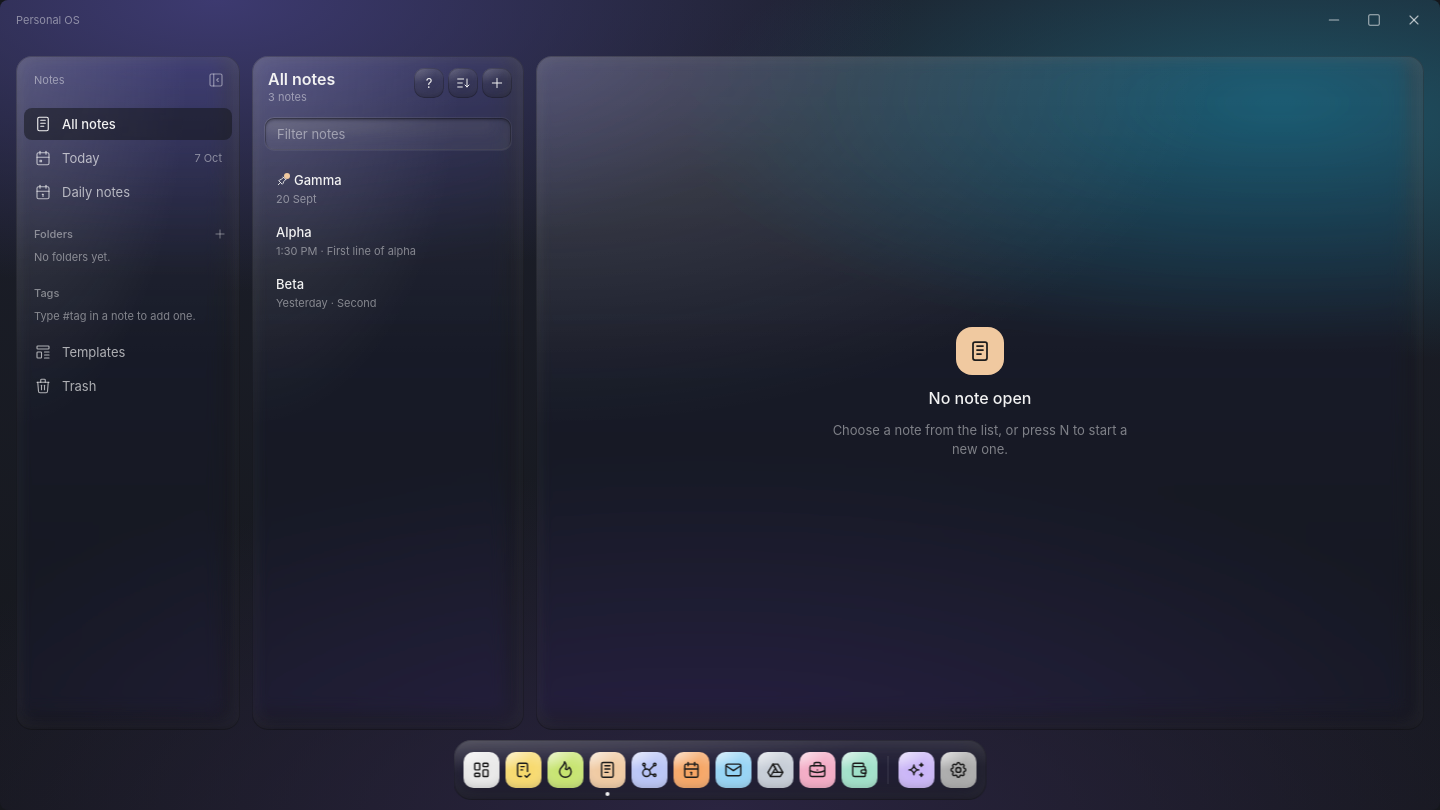
Test: the note list › filters the loaded notes by title as you type
Expected: the text "Alpha" is shown, [276,223,312,242]
Type "ALP" into the search field labelled "Filter notes". click: (388, 134)
box: [264,117,512,151]
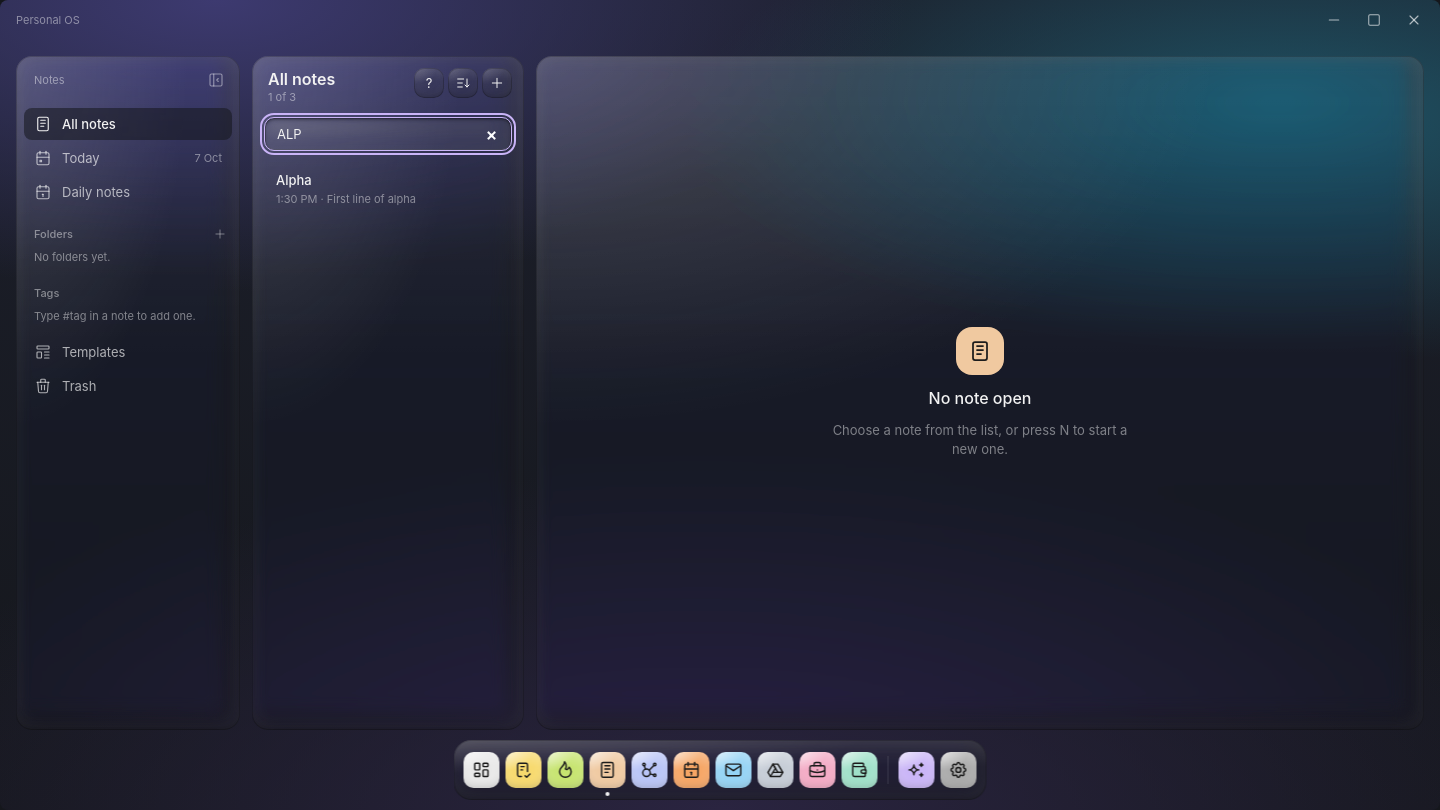
Expected: the text "1 of 3" is shown, [268,90,296,104]
Replace the text in the search field named "Filter notes" with "zzz". click: (388, 134)
box: [264,117,512,151]
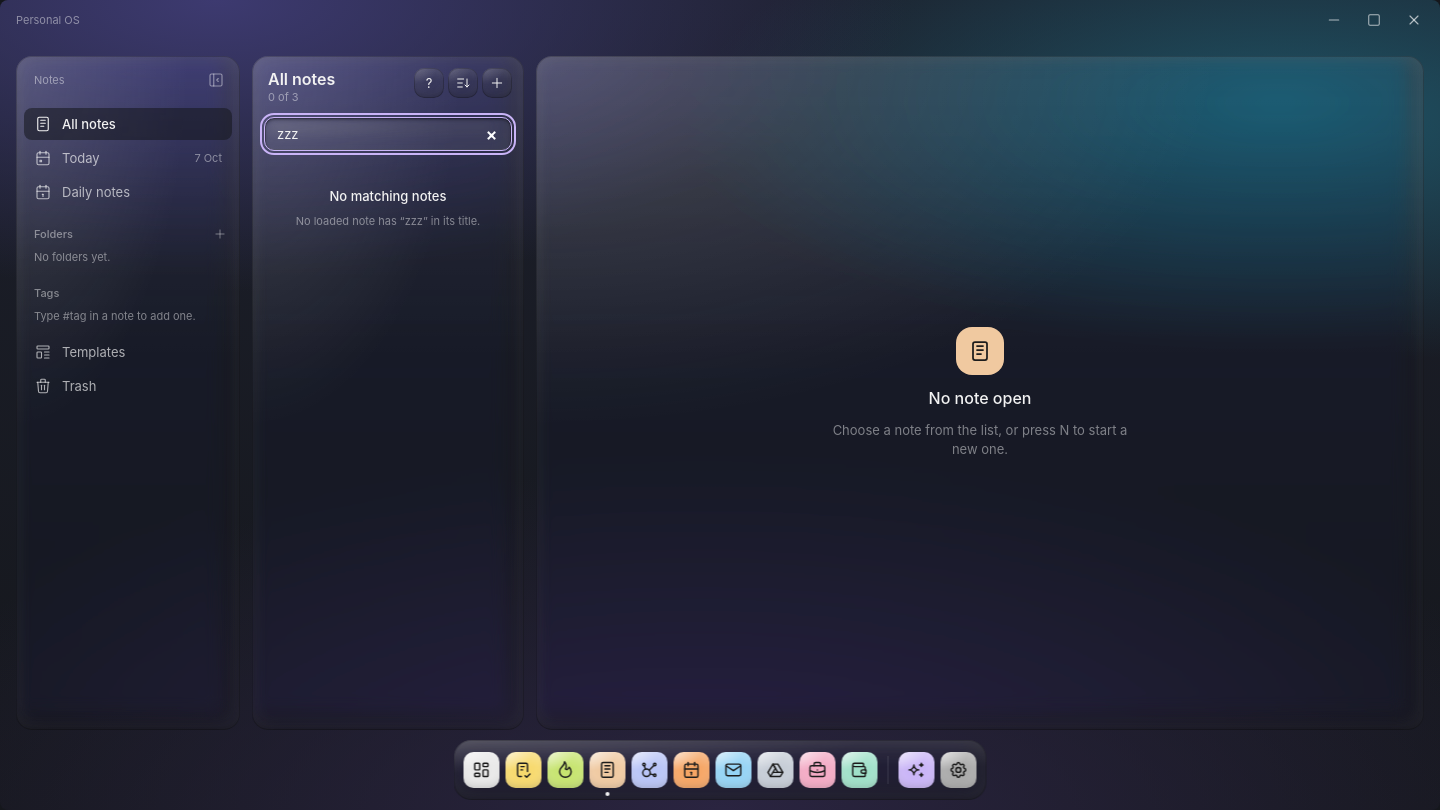
Expected: the heading "No matching notes" is shown, [330,187,446,206]
